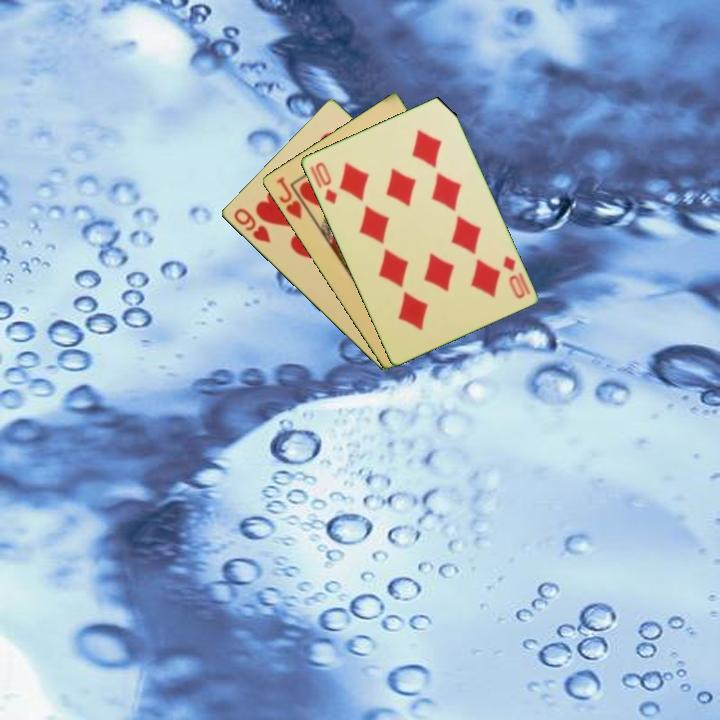10d: (306, 158, 340, 207), (499, 252, 527, 301)
9h: (230, 204, 273, 246)
Jh: (272, 173, 305, 222)
